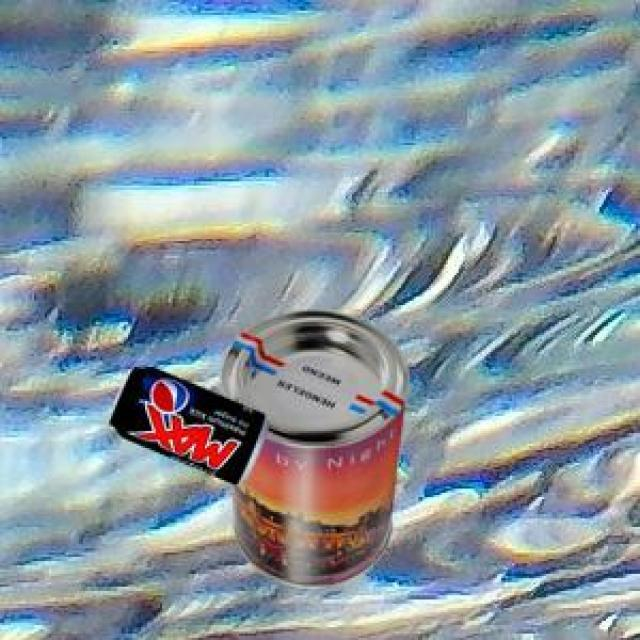Can: (219, 308, 406, 583), (106, 364, 266, 481)
